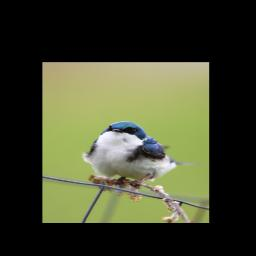Swallow: (81, 121, 203, 189)
